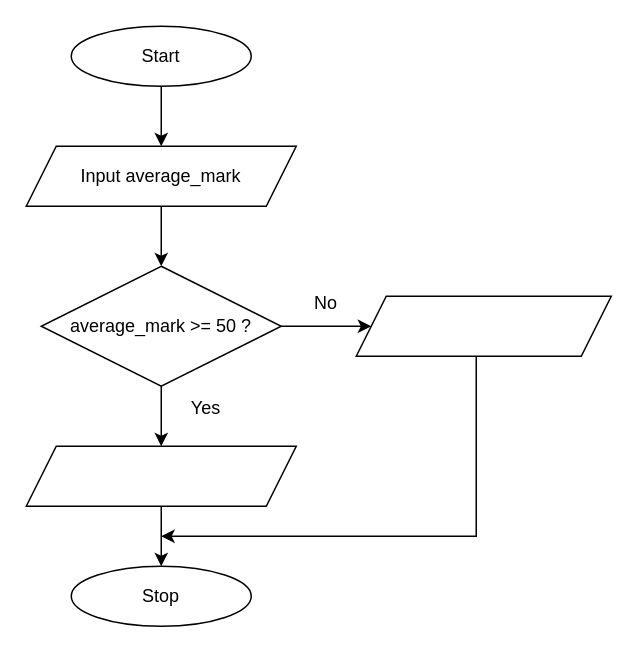
The diagram is 638 pixels wide and 653 high, and some of its shapes have lost their labels. Here are the shapes that lost their labels. From the top down, the centre of each, then its label:
point (483, 325): Display "Student is Fail"
point (160, 475): Display "Student is Pass"
